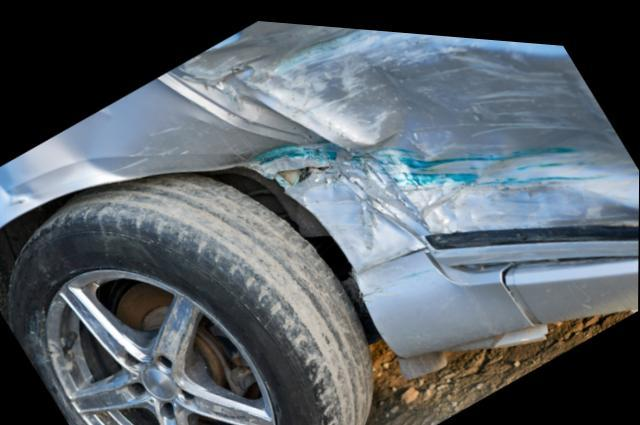crack: (270, 160, 327, 187)
dent: (196, 16, 639, 230), (0, 87, 164, 226)
